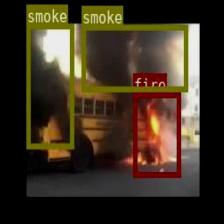fire: (133, 91, 180, 176)
smoke: (81, 24, 187, 91), (26, 22, 73, 148)
